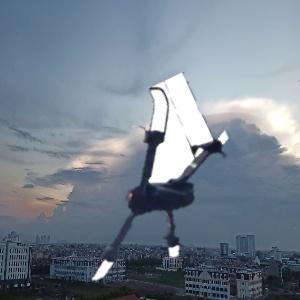drone: (54, 99, 249, 294)
